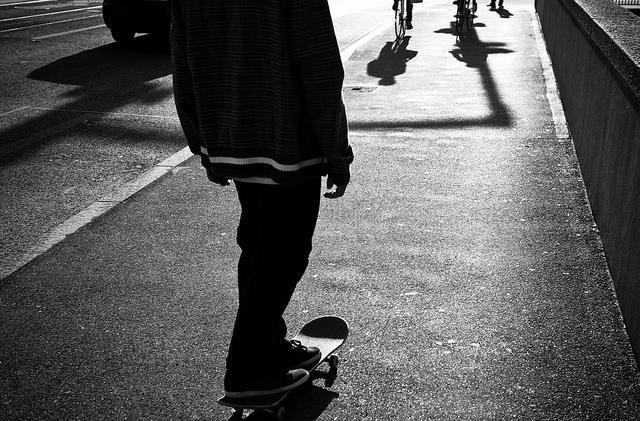bicycle: (456, 1, 474, 41), (393, 2, 408, 37)
car: (101, 0, 172, 44)
